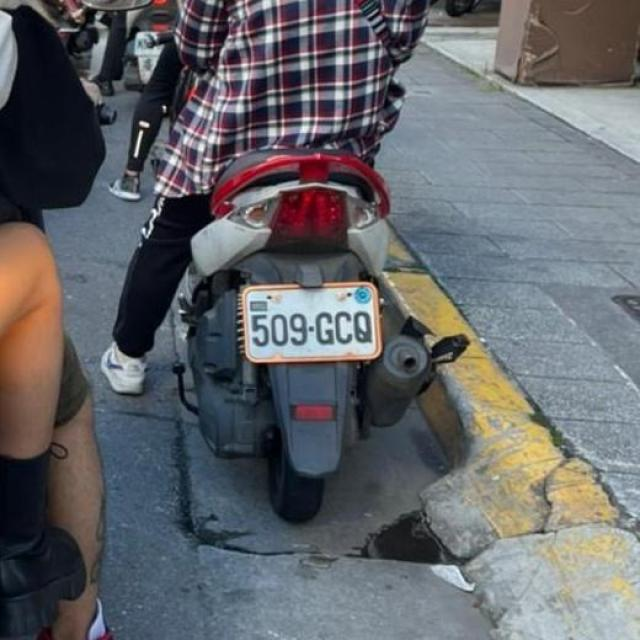W: (235, 272, 391, 372)
